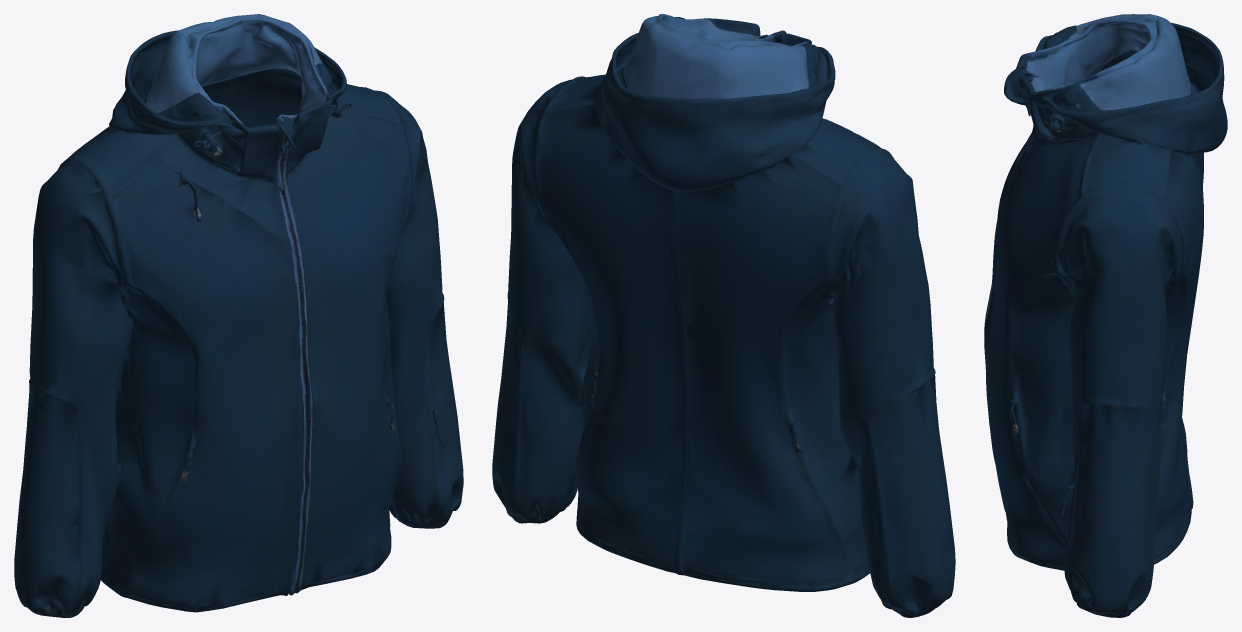
3 views of the same model, side by side, from view 1: azimuth 30°, elevation 25°; view 2: azimuth 150°, elevation 25°; view 3: azimuth 270°, elevation 25° (orthographic). The views are drawn at different scales.
Visible parts, largest first — view 1: tripo_node_71cfc0c4-e527-4d73-8110-5c8bfb5fa682; view 2: tripo_node_71cfc0c4-e527-4d73-8110-5c8bfb5fa682; view 3: tripo_node_71cfc0c4-e527-4d73-8110-5c8bfb5fa682.
Part boxes in pixels (<box>): tripo_node_71cfc0c4-e527-4d73-8110-5c8bfb5fa682: <box>14,14,463,617</box>; tripo_node_71cfc0c4-e527-4d73-8110-5c8bfb5fa682: <box>492,14,955,617</box>; tripo_node_71cfc0c4-e527-4d73-8110-5c8bfb5fa682: <box>984,14,1227,617</box>.
Bounding box in the file's own units: 0.8617 × 0.9996 × 0.4426.
1 material, 1 textured.
